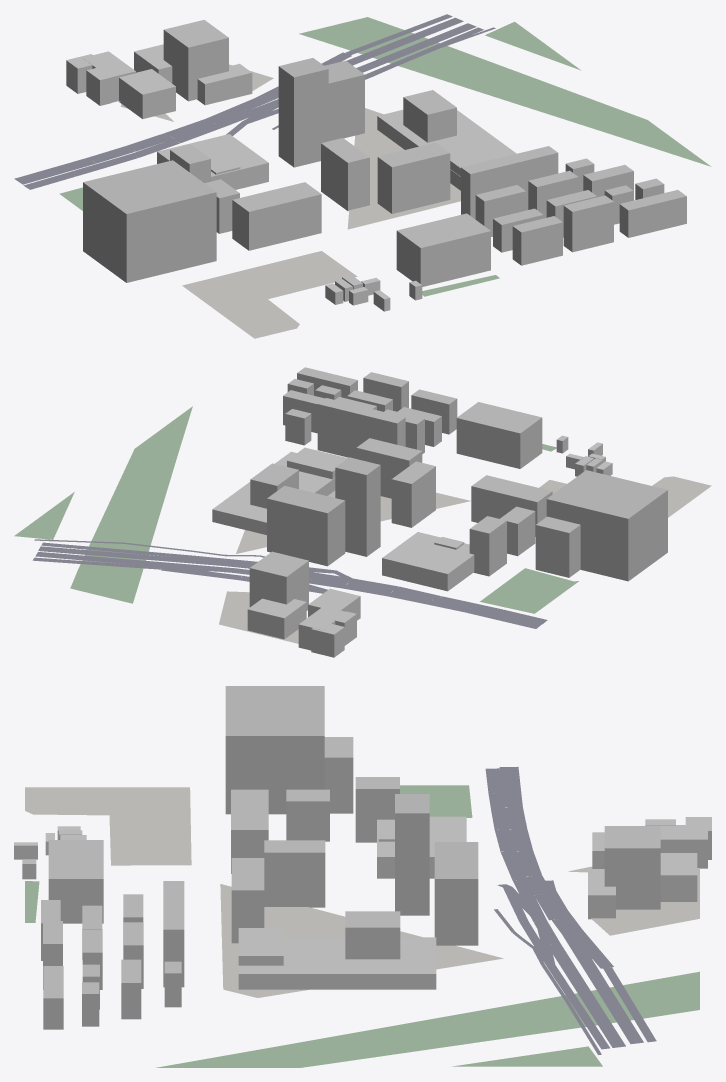
Rendered from 134_96_mid.glb.
The picture shows the model from 3 angles, top to bottom: view 1: azimuth 30°, elevation 25°; view 2: azimuth 150°, elevation 25°; view 3: azimuth 270°, elevation 25°; orthographic projection. The views are drawn at different scales.
Bounding box in the file's own units: 539 × 86.21 × 517.
